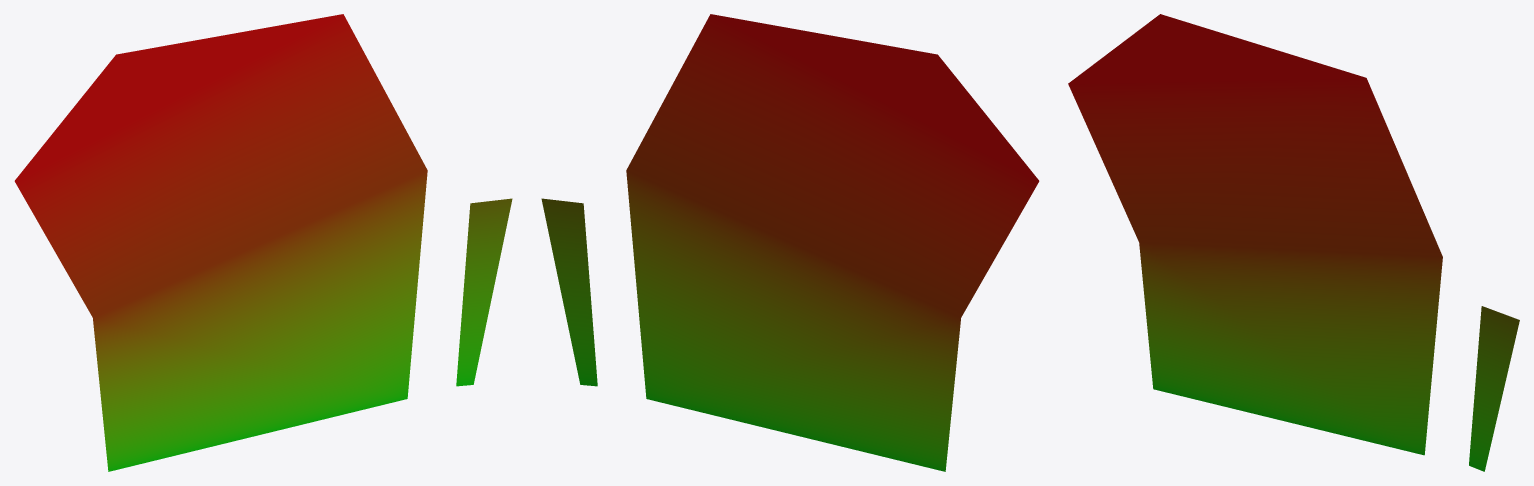
File: Cotton Grass_LOD4_Var9_wlykecdia.fbx
The picture shows the model from 3 angles, left to right: view 1: azimuth 30°, elevation 25°; view 2: azimuth 150°, elevation 25°; view 3: azimuth 330°, elevation 25°; orthographic projection. The views are drawn at different scales.
Visible parts, largest first — view 1: _f448_Var9_LOD4; view 2: _f448_Var9_LOD4; view 3: _f448_Var9_LOD4.
Part boxes in pixels (x1=…): _f448_Var9_LOD4: x1=14, y1=14, x2=512, y2=471; _f448_Var9_LOD4: x1=541, y1=14, x2=1039, y2=471; _f448_Var9_LOD4: x1=1068, y1=14, x2=1519, y2=471.
Size of the model in its own units: 22.05 by 17.67 by 5.82e-07.
